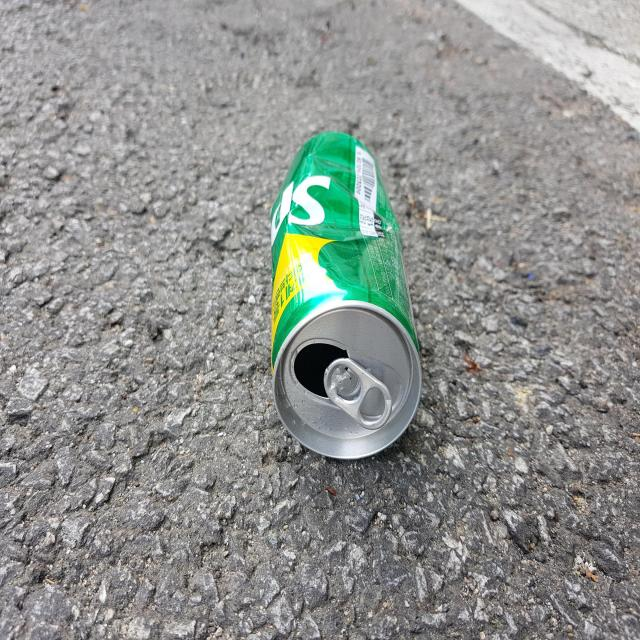can: (271, 132, 422, 459)
